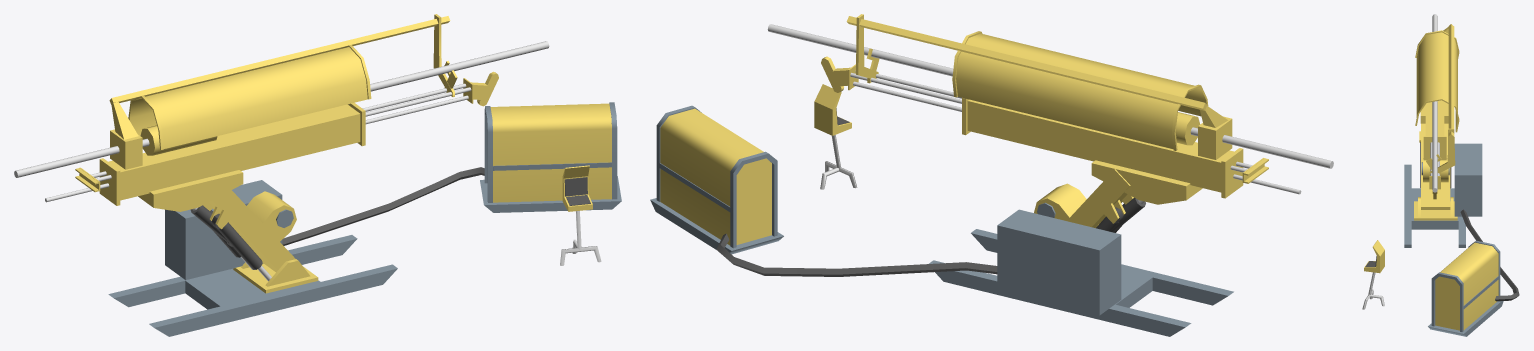
The model's file is Diamec_800_v.fbx.
The picture shows the model from 3 angles, left to right: view 1: azimuth 30°, elevation 25°; view 2: azimuth 150°, elevation 25°; view 3: azimuth 270°, elevation 25°; orthographic projection. The views are drawn at different scales.
Visible parts, largest first — view 1: Diamec; view 2: Diamec; view 3: Diamec.
Part boxes in pixels (left/top/right/bottom): Diamec: left=14, top=14, right=621, bottom=336; Diamec: left=650, top=14, right=1333, bottom=336; Diamec: left=1362, top=14, right=1519, bottom=336.
Size of the model in its own units: 664 by 225 by 216.
